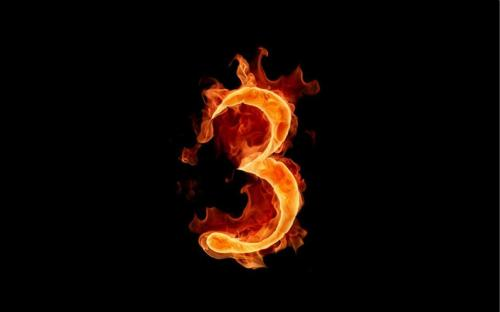fire: (202, 187, 267, 238), (227, 111, 264, 150)
